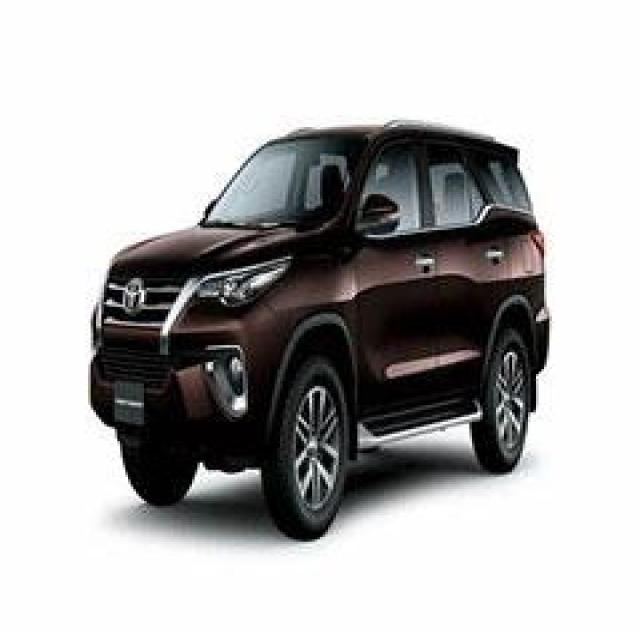car: (44, 47, 567, 569)
